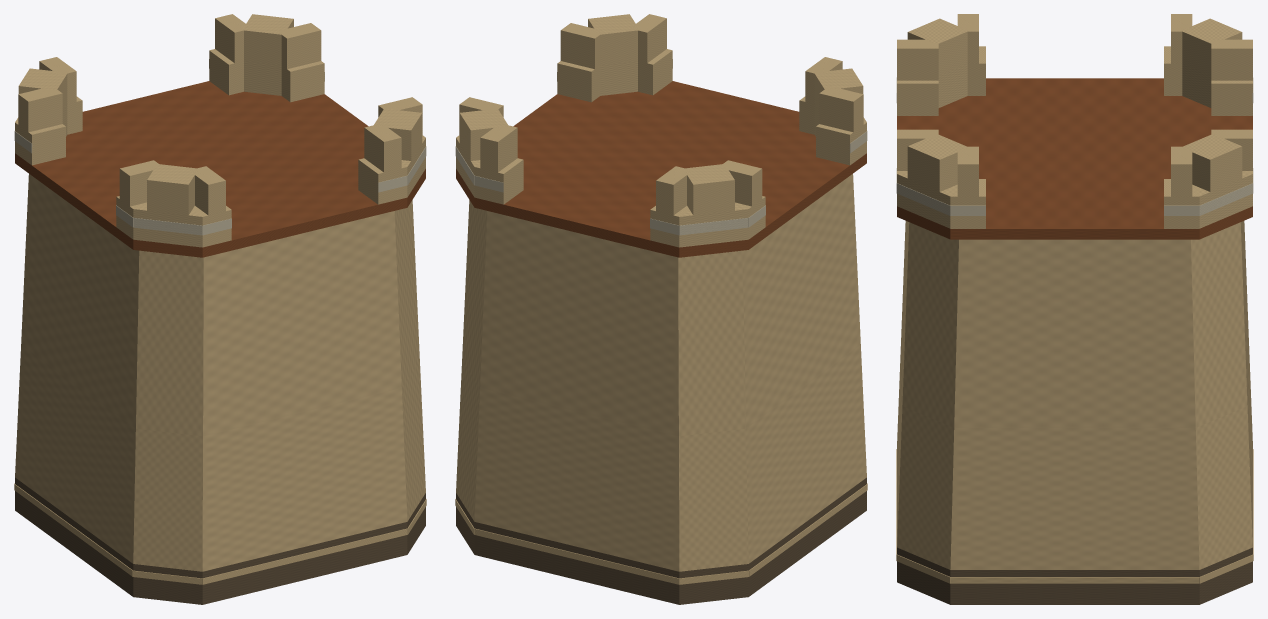
File: Berber_Bastion_Age3_cross.fbx
The picture shows the model from 3 angles, left to right: view 1: azimuth 30°, elevation 25°; view 2: azimuth 150°, elevation 25°; view 3: azimuth 270°, elevation 25°; orthographic projection. The views are drawn at different scales.
Parts seen in each view (by area): view 1: cross_battered_upper, cross_battered_lower, cross_continuous_walk_floor, cross_stone_foot, cross_guard_7_0, cross_guard_6_0, cross_guard_2_1, cross_foundation_bond_0, cross_merlon_7_0_0, cross_guard_0_1, cross_merlon_6_0_0, cross_merlon_2_1_0 (+15 smaller); view 2: cross_battered_upper, cross_battered_lower, cross_continuous_walk_floor, cross_stone_foot, cross_guard_5_0, cross_guard_6_1, cross_guard_2_0, cross_foundation_bond_4, cross_guard_4_0, cross_merlon_5_0_0, cross_merlon_6_1_0, cross_merlon_2_0_0 (+15 smaller); view 3: cross_battered_upper, cross_battered_lower, cross_continuous_walk_floor, cross_stone_foot, cross_foundation_bond_2, cross_merlon_3_0_0, cross_merlon_1_0_0, cross_guard_0_0, cross_guard_4_1, cross_guard_1_0, cross_guard_3_0, cross_merlon_0_0_0 (+18 smaller).
Part boxes in pixels (bbox=[...]): cross_battered_upper: bbox=[21, 174, 419, 436]; cross_battered_lower: bbox=[15, 345, 425, 571]; cross_continuous_walk_floor: bbox=[15, 81, 425, 257]; cross_stone_foot: bbox=[15, 477, 425, 604]; cross_guard_7_0: bbox=[133, 203, 204, 247]; cross_guard_6_0: bbox=[15, 122, 65, 165]; cross_guard_2_1: bbox=[281, 61, 324, 102]; cross_foundation_bond_0: bbox=[202, 528, 407, 584]; cross_merlon_7_0_0: bbox=[147, 176, 194, 215]; cross_guard_0_1: bbox=[358, 158, 407, 204]; cross_merlon_6_0_0: bbox=[18, 94, 62, 132]; cross_merlon_2_1_0: bbox=[281, 30, 321, 69]; cross_battered_upper: bbox=[462, 174, 860, 436]; cross_battered_lower: bbox=[456, 345, 866, 571]; cross_continuous_walk_floor: bbox=[456, 81, 866, 257]; cross_stone_foot: bbox=[456, 477, 866, 604]; cross_guard_5_0: bbox=[678, 202, 748, 247]; cross_guard_6_1: bbox=[816, 122, 866, 165]; cross_guard_2_0: bbox=[557, 61, 600, 102]; cross_foundation_bond_4: bbox=[474, 528, 679, 584]; cross_guard_4_0: bbox=[474, 158, 523, 204]; cross_merlon_5_0_0: bbox=[687, 177, 734, 215]; cross_merlon_6_1_0: bbox=[819, 94, 863, 132]; cross_merlon_2_0_0: bbox=[560, 30, 600, 69]; cross_battered_upper: bbox=[902, 221, 1247, 427]; cross_battered_lower: bbox=[897, 312, 1252, 569]; cross_continuous_walk_floor: bbox=[897, 78, 1252, 239]; cross_stone_foot: bbox=[897, 547, 1252, 604]; cross_foundation_bond_2: bbox=[950, 577, 1199, 583]; cross_merlon_3_0_0: bbox=[1192, 147, 1242, 191]; cross_merlon_1_0_0: bbox=[907, 147, 957, 191]; cross_guard_0_0: bbox=[897, 80, 938, 115]; cross_guard_4_1: bbox=[1211, 80, 1252, 115]; cross_guard_1_0: bbox=[897, 171, 957, 228]; cross_guard_3_0: bbox=[1170, 171, 1252, 228]; cross_merlon_0_0_0: bbox=[897, 48, 938, 80].
Size of the model in its own units: 603 by 820 by 603.
4 materials, 4 textured.
